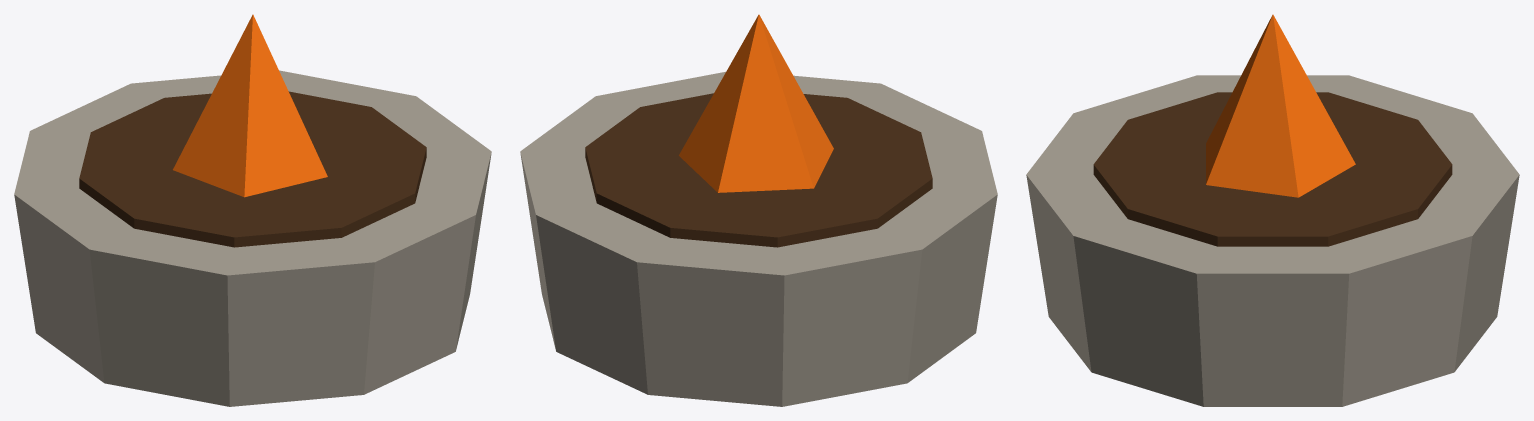
File: patio_fire_pit.glb
3 views of the same model, side by side, from view 1: azimuth 30°, elevation 25°; view 2: azimuth 150°, elevation 25°; view 3: azimuth 270°, elevation 25° (orthographic).
Parts seen in each view (by area): view 1: fire_pit; view 2: fire_pit; view 3: fire_pit.
Boxes of the visible parts, x1,y1,x2,y2 form: fire_pit: (14,14,491,406); fire_pit: (520,14,997,406); fire_pit: (1026,14,1519,406).
Bounding box in the file's own units: 1.05 × 0.745 × 1.1.
